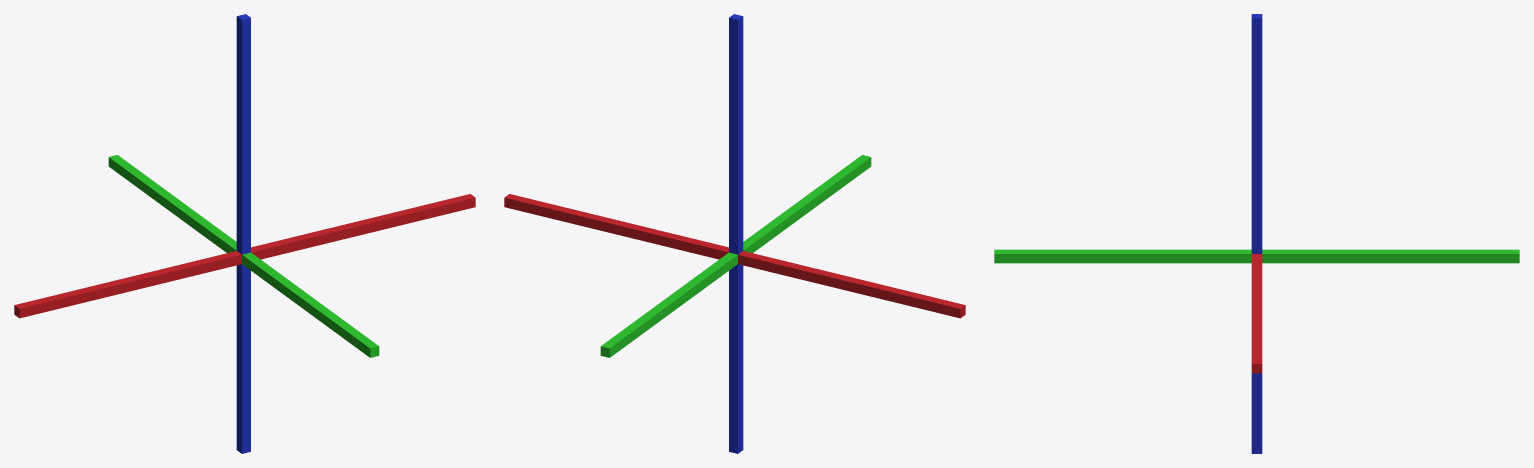
Rendered from xyzCoords.obj.
The picture shows the model from 3 angles, left to right: view 1: azimuth 30°, elevation 25°; view 2: azimuth 150°, elevation 25°; view 3: azimuth 270°, elevation 25°; orthographic projection.
Parts seen in each view (by area): view 1: Cube_Cube.001; view 2: Cube_Cube.001; view 3: Cube_Cube.001.
Boxes of the visible parts, x1,y1,x2,y2 form: Cube_Cube.001: (14,14,475,453); Cube_Cube.001: (504,14,965,453); Cube_Cube.001: (994,14,1519,453).
Bounding box in the file's own units: 10.08 × 9.16 × 10.01.
